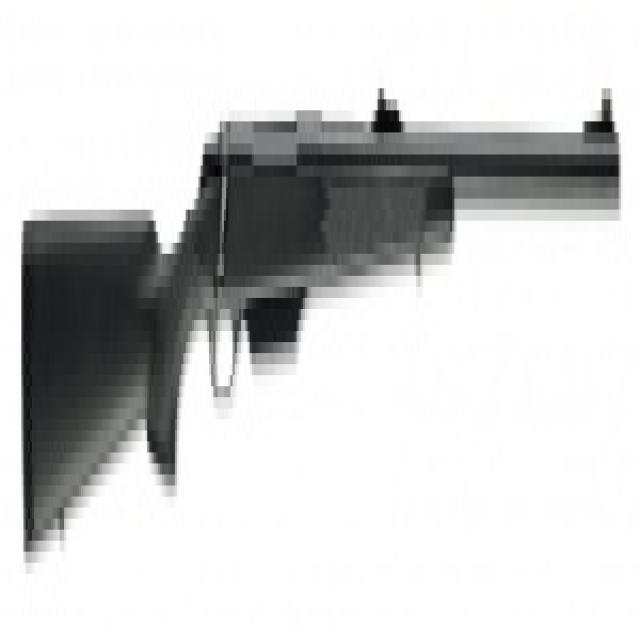rifle: (15, 59, 623, 595)
